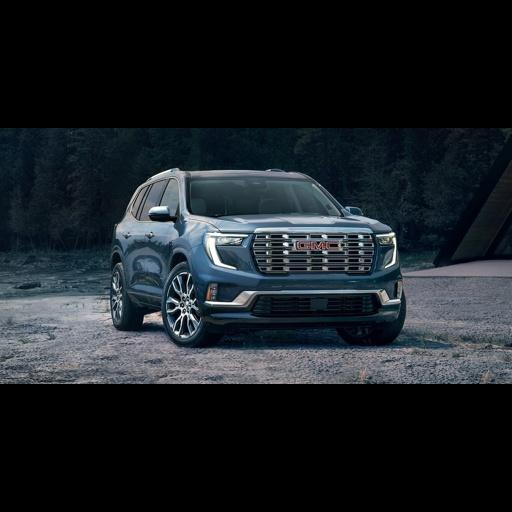suv: (109, 167, 405, 345)
